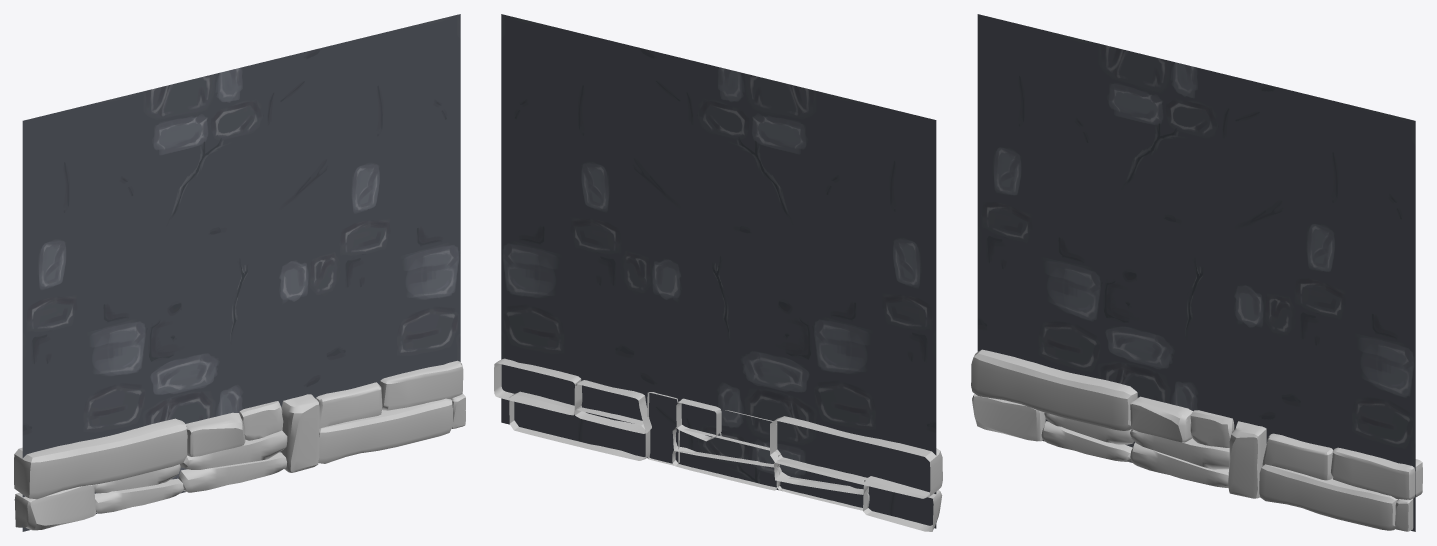
File: wall simple.fbx
3 renders of one model, left to right at view 1: azimuth 30°, elevation 25°; view 2: azimuth 150°, elevation 25°; view 3: azimuth 330°, elevation 25°, orthographic.
Visible parts, largest first — view 1: Wall__Simple; view 2: Wall__Simple; view 3: Wall__Simple.
Part boxes in pixels (x1,y1,x2,y2): Wall__Simple: [14, 14, 465, 531]; Wall__Simple: [494, 14, 942, 531]; Wall__Simple: [971, 14, 1422, 531].
Size of the model in its own units: 14.08 by 12.57 by 1.01.
